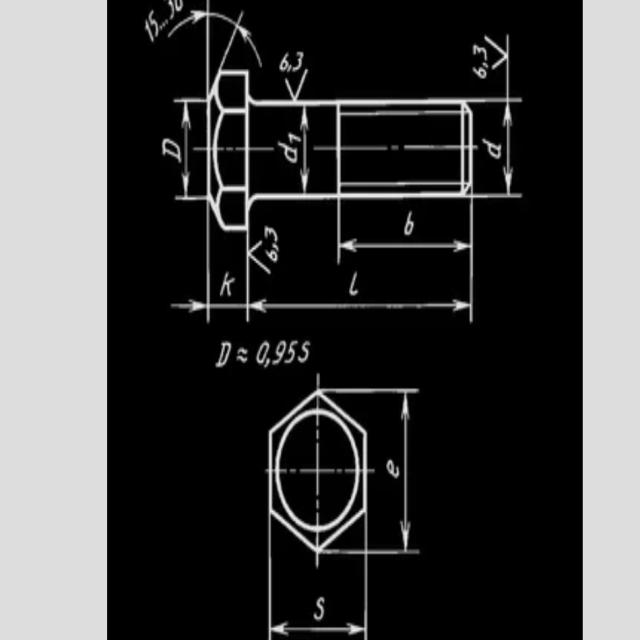marking_line: (170, 10, 263, 87), (250, 290, 471, 316), (341, 237, 474, 254), (399, 390, 411, 550), (498, 100, 515, 194), (177, 103, 193, 193), (267, 623, 365, 637), (250, 231, 272, 285), (167, 297, 207, 321), (485, 32, 507, 74)
numeric: (257, 339, 317, 368), (468, 32, 488, 86), (275, 47, 309, 76), (141, 3, 158, 42)
